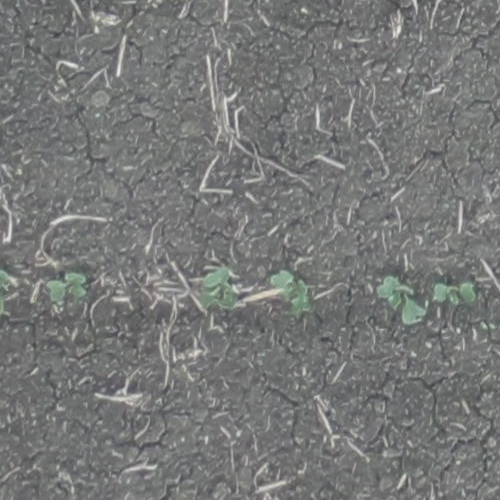clumped: (271, 270, 312, 315)
isolated: (374, 276, 425, 323), (199, 267, 239, 308), (47, 271, 91, 301), (429, 281, 476, 306), (0, 266, 8, 316)
